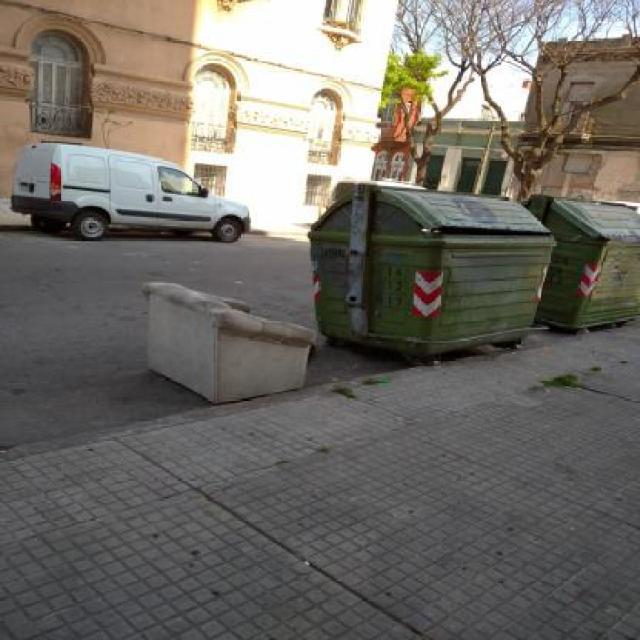garbage: (126, 273, 354, 400)
